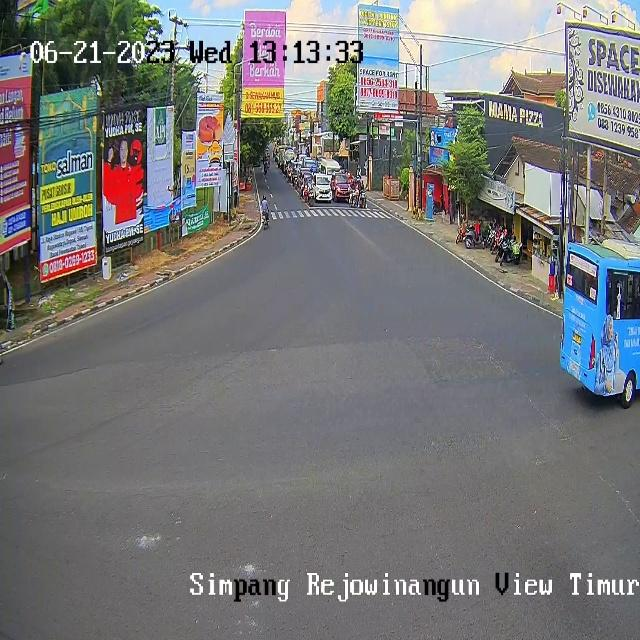bus: (262, 210, 270, 229), (350, 189, 358, 207), (360, 188, 367, 208), (308, 187, 314, 205), (303, 184, 308, 202)
car: (560, 238, 640, 407)
motorcycle: (311, 174, 333, 202), (331, 173, 350, 202)
